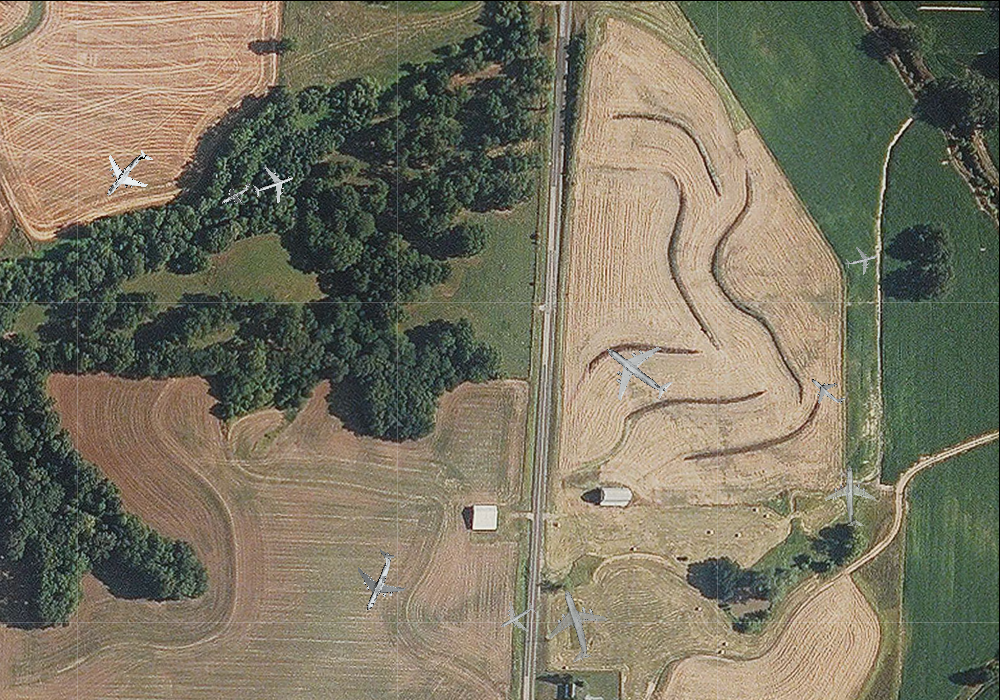plane: (586, 320, 687, 420), (530, 580, 619, 671), (87, 133, 166, 213), (339, 541, 417, 621), (823, 465, 881, 527), (802, 365, 853, 416), (247, 159, 299, 209), (491, 592, 543, 642), (212, 171, 258, 215), (842, 241, 881, 278)
